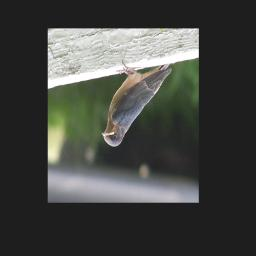Swallow: (101, 59, 172, 147)
